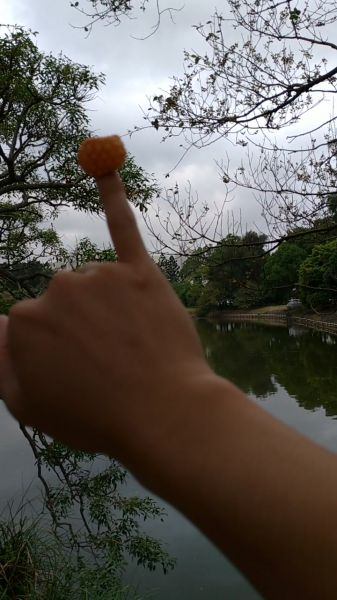eggs: (76, 135, 126, 176)
